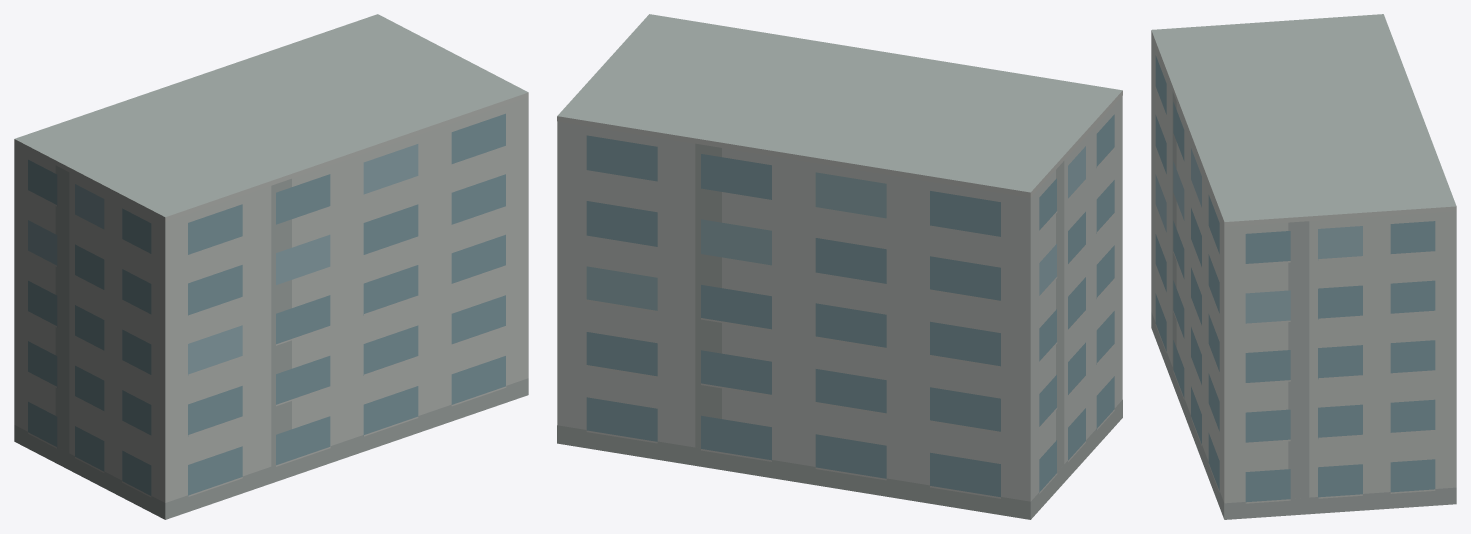
The model's file is residential-1b5f2ee5-7660-45dc-ad80-0c15cc5610b0.glb.
3 renders of one model, left to right at view 1: azimuth 30°, elevation 25°; view 2: azimuth 150°, elevation 25°; view 3: azimuth 270°, elevation 25°, orthographic. The views are drawn at different scales.
Parts seen in each view (by area): view 1: residential-1b5f2ee5-7660-45dc-ad80-0c15cc5610b0.tmp; view 2: residential-1b5f2ee5-7660-45dc-ad80-0c15cc5610b0.tmp; view 3: residential-1b5f2ee5-7660-45dc-ad80-0c15cc5610b0.tmp.
Boxes of the visible parts, x1,y1,x2,y2 form: residential-1b5f2ee5-7660-45dc-ad80-0c15cc5610b0.tmp: [14, 14, 528, 519]; residential-1b5f2ee5-7660-45dc-ad80-0c15cc5610b0.tmp: [557, 14, 1122, 519]; residential-1b5f2ee5-7660-45dc-ad80-0c15cc5610b0.tmp: [1151, 14, 1456, 519].
Bounding box in the file's own units: 22.87 × 15.25 × 14.18.
